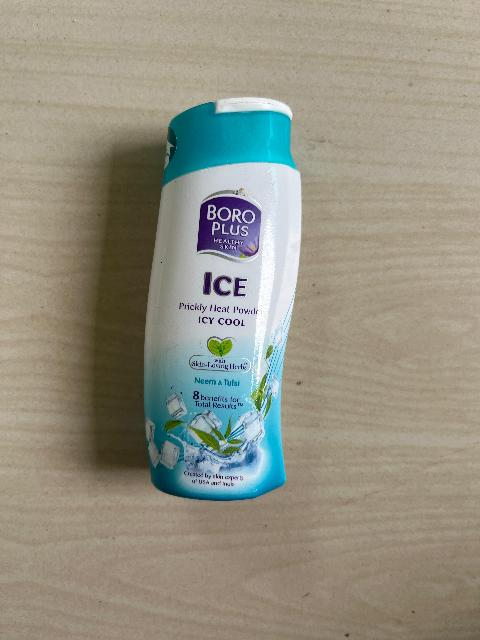boroplus: (141, 102, 303, 508)
